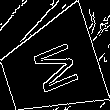M_W: (23, 38, 79, 98)
